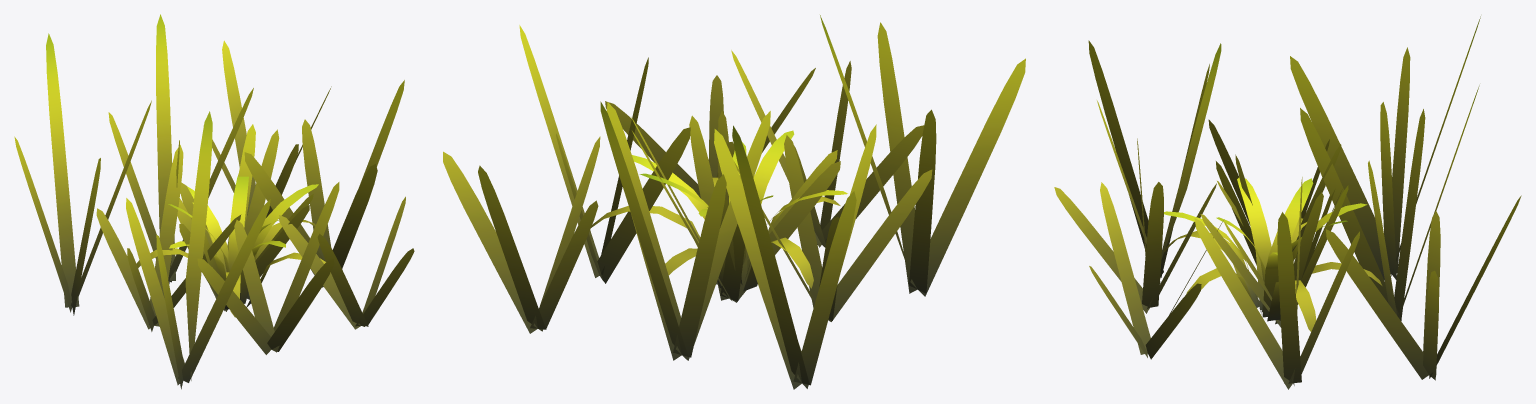
The model's file is Flora_luan.fbx.
3 renders of one model, left to right at view 1: azimuth 30°, elevation 25°; view 2: azimuth 150°, elevation 25°; view 3: azimuth 270°, elevation 25°, orthographic. The views are drawn at different scales.
Visible parts, largest first — view 1: Multi_patch, Bush, Single_patch; view 2: Multi_patch, Bush, Single_patch; view 3: Multi_patch, Bush, Single_patch.
Boxes of the visible parts, x1=… form: Multi_patch: x1=14, y1=14, x2=414, y2=389; Bush: x1=136, y1=174, x2=330, y2=317; Single_patch: x1=177, y1=124, x2=313, y2=310; Multi_patch: x1=443, y1=15, x2=1025, y2=389; Bush: x1=591, y1=130, x2=847, y2=291; Single_patch: x1=632, y1=115, x2=837, y2=302; Multi_patch: x1=1054, y1=16, x2=1521, y2=389; Bush: x1=1164, y1=177, x2=1382, y2=331; Single_patch: x1=1216, y1=161, x2=1348, y2=304.
Size of the model in its own units: 24.65 by 17.39 by 26.63.
1 material, 1 textured.
